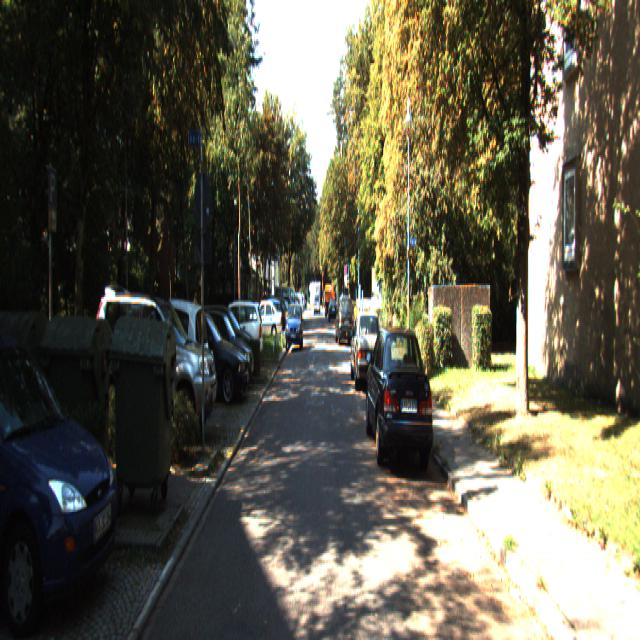Car: (0, 312, 121, 637), (92, 274, 219, 451), (364, 322, 436, 475), (160, 302, 250, 410), (350, 312, 385, 392), (246, 300, 282, 343), (335, 294, 354, 348), (285, 304, 303, 352)
